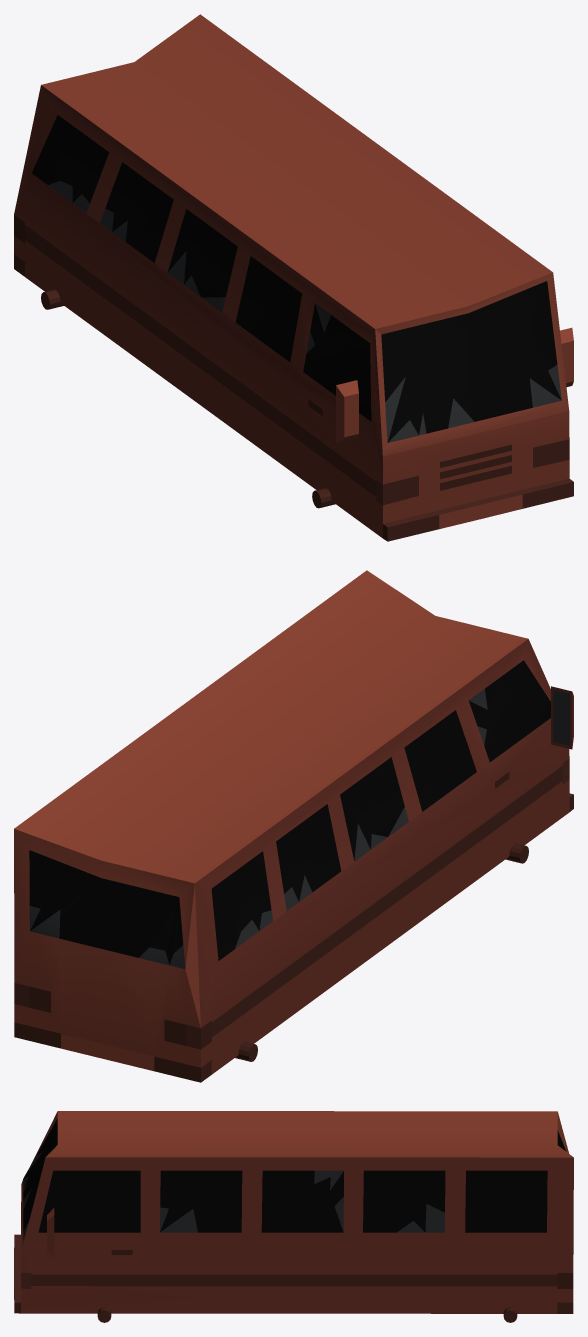
The model's file is SA_Prop_BurntBrown_Bus_01.glb.
The picture shows the model from 3 angles, top to bottom: view 1: azimuth 30°, elevation 25°; view 2: azimuth 150°, elevation 25°; view 3: azimuth 270°, elevation 25°; orthographic projection. The views are drawn at different scales.
Visible parts, largest first — view 1: SA_Prop_BurntBrown_Bus_01; view 2: SA_Prop_BurntBrown_Bus_01; view 3: SA_Prop_BurntBrown_Bus_01.
Boxes of the visible parts, x1,y1,x2,y2 form: SA_Prop_BurntBrown_Bus_01: (14, 14, 573, 541); SA_Prop_BurntBrown_Bus_01: (14, 570, 573, 1082); SA_Prop_BurntBrown_Bus_01: (14, 1111, 573, 1322).
Bounding box in the file's own units: 1.45 × 1.26 × 3.97.
1 material, 1 textured.
